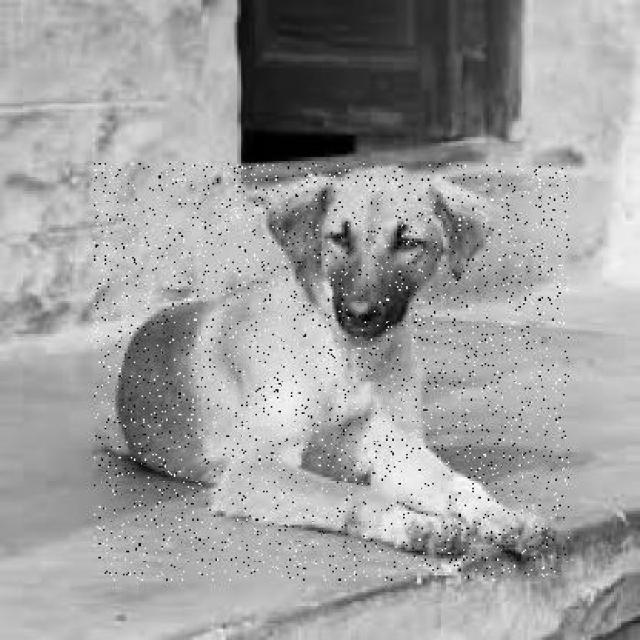Dog: (94, 163, 571, 582)
